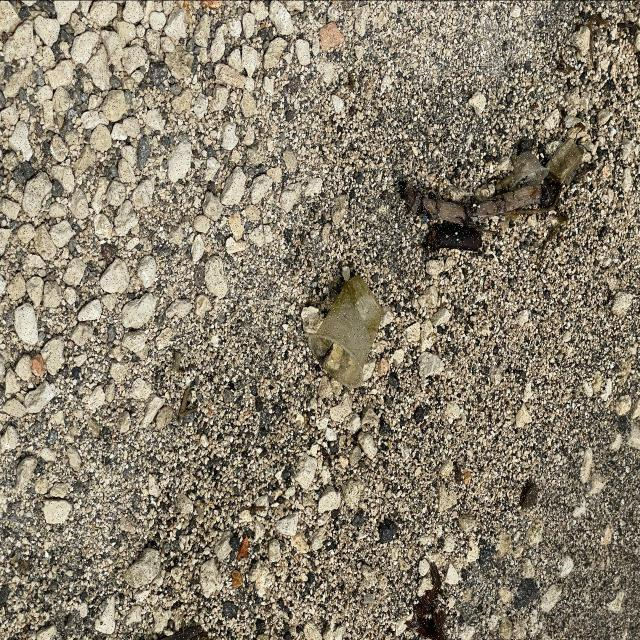plastic_waste: (312, 276, 385, 388)
